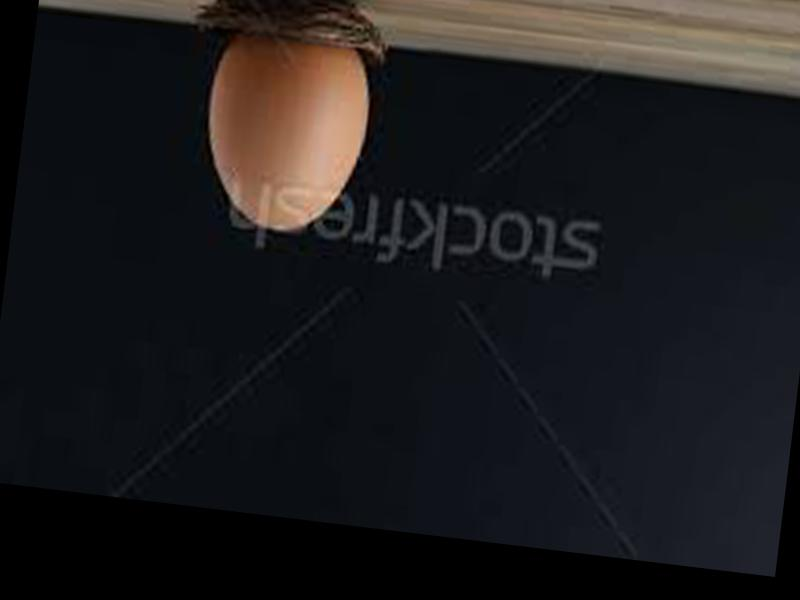Eggs: (193, 26, 372, 237)
